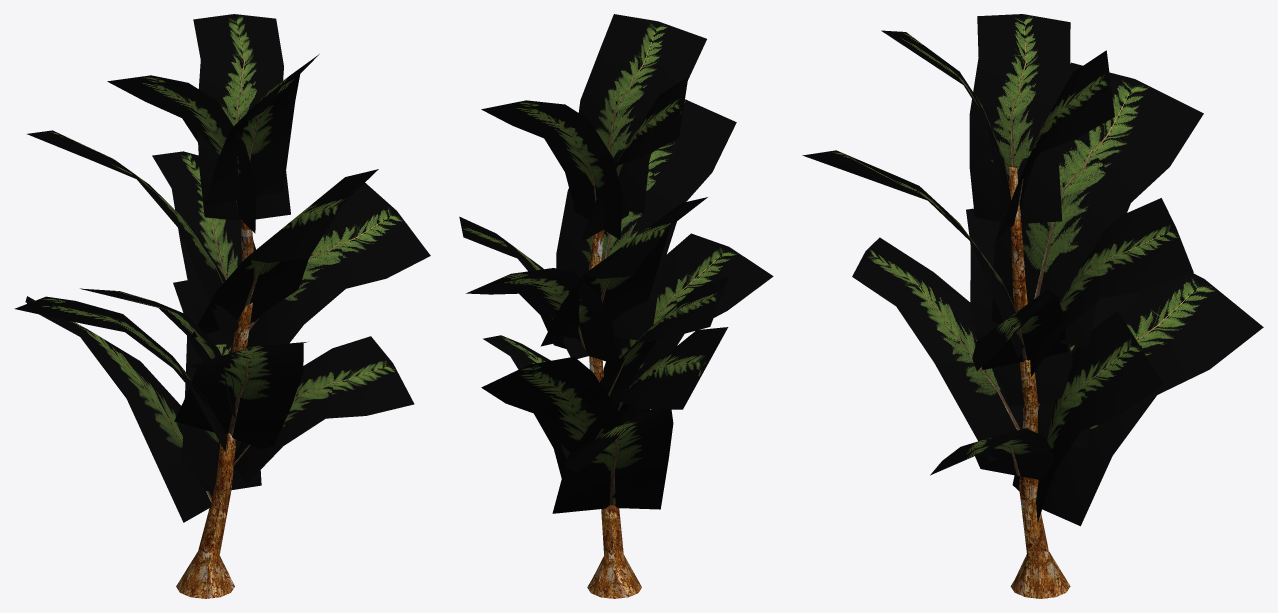
Rendered from Pachypteris_01.DAE.
3 renders of one model, left to right at view 1: azimuth 30°, elevation 25°; view 2: azimuth 150°, elevation 25°; view 3: azimuth 270°, elevation 25°, orthographic. The views are drawn at different scales.
Visible parts, largest first — view 1: Pachypteris300, Pachypteris150; view 2: Pachypteris300, Pachypteris150; view 3: Pachypteris300, Pachypteris150.
Part boxes in pixels (<box>): Pachypteris300: <box>14,14,430,598</box>; Pachypteris150: <box>15,54,345,597</box>; Pachypteris300: <box>466,14,773,598</box>; Pachypteris150: <box>459,51,728,550</box>; Pachypteris300: <box>802,14,1263,598</box>; Pachypteris150: <box>837,30,1157,578</box>.
Size of what is drawn, in the model's own units: 163 by 197 by 268.
